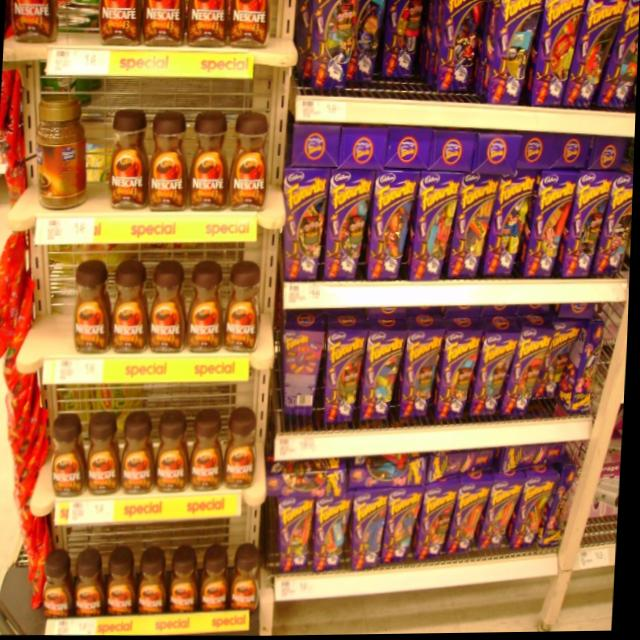q13: (141, 115, 195, 213), (66, 259, 117, 358), (143, 259, 191, 360), (107, 109, 153, 211), (114, 255, 156, 356), (234, 112, 274, 218), (52, 403, 93, 504), (194, 106, 232, 214), (41, 543, 83, 636), (193, 408, 234, 500), (226, 400, 266, 487), (151, 417, 188, 510), (191, 267, 227, 361), (136, 534, 174, 620), (227, 258, 259, 360), (202, 529, 236, 623), (121, 414, 156, 496), (107, 544, 141, 620), (90, 411, 118, 500), (76, 546, 109, 621), (233, 529, 261, 614), (173, 546, 207, 614)
